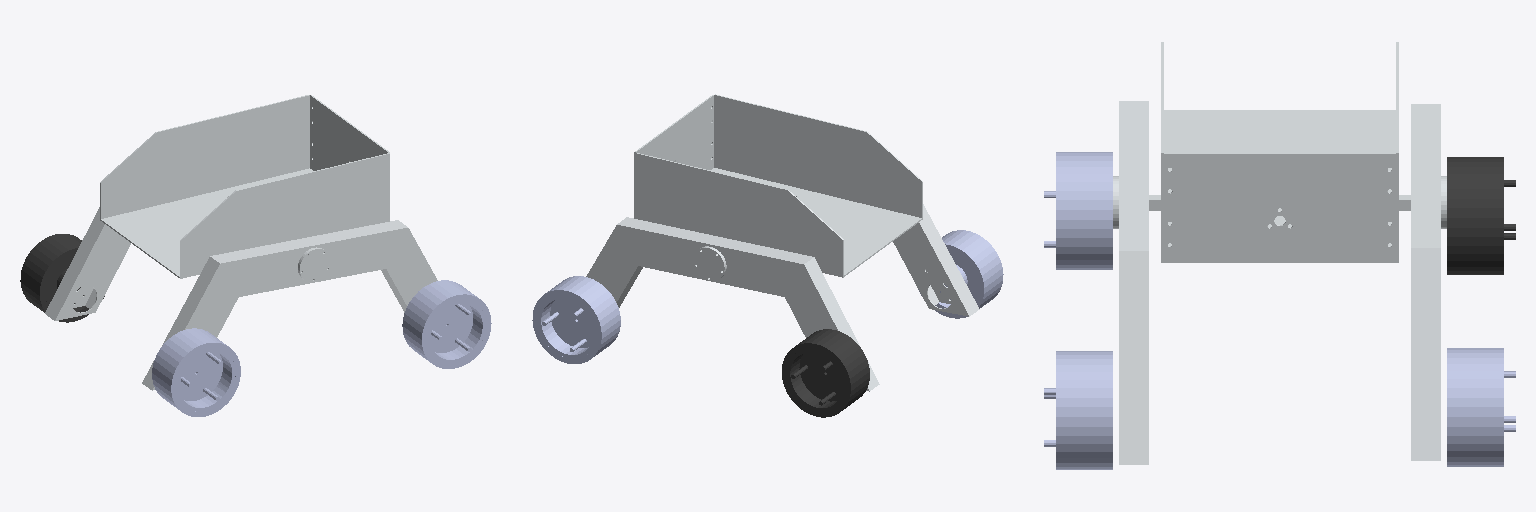
URDF robot description (modelo_sagan):
<robot
  name="modelo_sagan">
  <link
    name="base_link">
    <inertial>
      <origin
        xyz="-0.0444310059293012 -0.3 0.0622702114065027"
        rpy="0 0 0" />
      <mass
        value="0.793701198940021" />
      <inertia
        ixx="0.00346642745161757"
        ixy="6.34553575975384E-19"
        ixz="-0.000440436800758407"
        iyy="0.00244776176348504"
        iyz="6.42269877250963E-19"
        izz="0.00490897911186748" />
    </inertial>
    <visual>
      <origin
        xyz="0 0 0"
        rpy="0 0 0" />
      <geometry>
        <mesh
          filename="package://modelo_sagan/meshes/base_link.STL" />
      </geometry>
      <material
        name="">
        <color
          rgba="0.898039215686275 0.917647058823529 0.929411764705882 1" />
      </material>
    </visual>
    <collision>
      <origin
        xyz="0 0 0"
        rpy="0 0 0" />
      <geometry>
        <mesh
          filename="package://modelo_sagan/meshes/base_link.STL" />
      </geometry>
    </collision>
  </link>
  <link
    name="Susp_right">
    <inertial>
      <origin
        xyz="-0.0367180930274202 -0.0139956206617251 -0.0135528661805364"
        rpy="0 0 0" />
      <mass
        value="0.291792316463795" />
      <inertia
        ixx="0.00189491394131588"
        ixy="-0.00125671559561288"
        ixz="3.24148332283172E-06"
        iyy="0.00119368120662915"
        iyz="1.28213006448375E-06"
        izz="0.00308636670929111" />
    </inertial>
    <visual>
      <origin
        xyz="0 0 0"
        rpy="0 0 0" />
      <geometry>
        <mesh
          filename="package://modelo_sagan/meshes/Susp_right.STL" />
      </geometry>
      <material
        name="">
        <color
          rgba="0.898039215686275 0.917647058823529 0.929411764705882 1" />
      </material>
    </visual>
    <collision>
      <origin
        xyz="0 0 0"
        rpy="0 0 0" />
      <geometry>
        <mesh
          filename="package://modelo_sagan/meshes/Susp_right.STL" />
      </geometry>
    </collision>
  </link>
  <joint
    name="eixo_Susp_R"
    type="fixed">
    <origin
      xyz="-0.0492787962347225 -0.41 0.0314863650603519"
      rpy="-1.5707963267949 -0.997789985484159 9.48986181582886E-17" />
    <parent
      link="base_link" />
    <child
      link="Susp_right" />
    <axis
      xyz="0 0 -1" />
  </joint>
  <link
    name="R_Front_wheel">
    <inertial>
      <origin
        xyz="3.66373598126302E-15 -1.69309011255336E-15 0.00163770079233821"
        rpy="0 0 0" />
      <mass
        value="0.250087817580495" />
      <inertia
        ixx="4.59573165509559E-06"
        ixy="0"
        ixz="-2.25040567409979E-18"
        iyy="4.59573165509559E-06"
        iyz="1.02312258002524E-18"
        izz="5.83801355502451E-30" />
    </inertial>
    <visual>
      <origin
        xyz="0 0 0"
        rpy="0 0 0" />
      <geometry>
        <mesh
          filename="package://modelo_sagan/meshes/R_Front_wheel.STL" />
      </geometry>
      <material
        name="">
        <color
          rgba="0.796078431372549 0.823529411764706 0.937254901960784 1" />
      </material>
    </visual>
    <collision>
      <origin
        xyz="7 0 0"
        rpy="0 0 0" />
      <geometry>
        <mesh
          filename="package://modelo_sagan/meshes/R_Front_wheel.STL" />
      </geometry>
    </collision>
  </link>
  <joint
    name="eixoRFW"
    type="fixed">
    <origin
      xyz="0.00083235 0.20699 -0.050813"
      rpy="3.1416 0 -0.55205" />
    <parent
      link="Susp_right" />
    <child
      link="R_Front_wheel" />
    <axis
      xyz="0 0 0" />
  </joint>
  <link
    name="R_Back_wheel">
    <inertial>
      <origin
        xyz="3.62210261783957E-15 1.66533453693773E-16 -0.00413770079233833"
        rpy="0 0 0" />
      <mass
        value="0.250087817580495" />
      <inertia
        ixx="4.59573165509569E-06"
        ixy="0"
        ixz="1.10995971625901E-18"
        iyy="4.59573165509569E-06"
        iyz="-4.11227445186882E-21"
        izz="1.87606031515425E-28" />
    </inertial>
    <visual>
      <origin
        xyz="0 0 0"
        rpy="0 0 0" />
      <geometry>
        <mesh
          filename="package://modelo_sagan/meshes/R_Back_wheel.STL" />
      </geometry>
      <material
        name="">
        <color
          rgba="0.792156862745098 0.819607843137255 0.933333333333333 1" />
      </material>
    </visual>
    <collision>
      <origin
        xyz="0 0 0"
        rpy="0 0 0" />
      <geometry>
        <mesh
          filename="package://modelo_sagan/meshes/R_Back_wheel.STL" />
      </geometry>
    </collision>
  </link>
  <joint
    name="eixoRBW"
    type="fixed">
    <origin
      xyz="-0.178838257906476 -0.104213429510882 -0.0483125"
      rpy="0 0 2.14187631042243" />
    <parent
      link="Susp_right" />
    <child
      link="R_Back_wheel" />
    <axis
      xyz="0 0 0" />
  </joint>
  <link
    name="Susp_left">
    <inertial>
      <origin
        xyz="-0.0367180930274213 -0.0139956206617264 0.0168471338194642"
        rpy="0 0 0" />
      <mass
        value="0.291792316463796" />
      <inertia
        ixx="0.0018949139413159"
        ixy="-0.00125671559561291"
        ixz="3.24148332283041E-06"
        iyy="0.00119368120662919"
        iyz="1.28213006448251E-06"
        izz="0.00308636670929116" />
    </inertial>
    <visual>
      <origin
        xyz="0 0 0"
        rpy="0 0 0" />
      <geometry>
        <mesh
          filename="package://modelo_sagan/meshes/Susp_left.STL" />
      </geometry>
      <material
        name="">
        <color
          rgba="0.898039215686275 0.917647058823529 0.929411764705882 1" />
      </material>
    </visual>
    <collision>
      <origin
        xyz="0 0 0"
        rpy="0 0 0" />
      <geometry>
        <mesh
          filename="package://modelo_sagan/meshes/Susp_left.STL" />
      </geometry>
    </collision>
  </link>
  <joint
    name="eixo_Susp_L"
    type="fixed">
    <origin
      xyz="-0.0492787962347225 -0.1596 0.0314863650603519"
      rpy="-1.5707963267949 -1.0764644338619 3.14159265358979" />
    <parent
      link="base_link" />
    <child
      link="Susp_left" />
    <axis
      xyz="0 0 1" />
  </joint>
  <link
    name="L_Front_wheel">
    <inertial>
      <origin
        xyz="1.72084568816899E-15 -4.30211422042248E-16 0.0016377007923383"
        rpy="0 0 0" />
      <mass
        value="0.250087817580495" />
      <inertia
        ixx="4.59573165509563E-06"
        ixy="2.64697796016969E-23"
        ixz="-1.10257299057821E-18"
        iyy="4.59573165509563E-06"
        iyz="2.07636838168532E-19"
        izz="1.12495490728928E-30" />
    </inertial>
    <visual>
      <origin
        xyz="0 0 0"
        rpy="0 0 0" />
      <geometry>
        <mesh
          filename="package://modelo_sagan/meshes/L_Front_wheel.STL" />
      </geometry>
      <material
        name="">
        <color
          rgba="0.796078431372549 0.823529411764706 0.937254901960784 1" />
      </material>
    </visual>
    <collision>
      <origin
        xyz="0 0 0"
        rpy="0 0 0" />
      <geometry>
        <mesh
          filename="package://modelo_sagan/meshes/L_Front_wheel.STL" />
      </geometry>
    </collision>
  </link>
  <joint
    name="eixoLFW"
    type="fixed">
    <origin
      xyz="-0.178838257906464 -0.104213429510898 -0.0204124999999994"
      rpy="3.14159265358979 0 -0.420787783674323" />
    <parent
      link="Susp_left" />
    <child
      link="L_Front_wheel" />
    <axis
      xyz="0 0 0" />
  </joint>
  <link
    name="L_Back_wheel">
    <inertial>
      <origin
        xyz="-6.10622663543836E-16 5.55111512312578E-16 0.0220502007923377"
        rpy="0 0 0" />
      <mass
        value="0.250087817580495" />
      <inertia
        ixx="4.59573165509559E-06"
        ixy="0"
        ixz="7.62666975930451E-19"
        iyy="4.59573165509559E-06"
        iyz="-5.81056453654185E-19"
        izz="6.37489559775246E-31" />
    </inertial>
    <visual>
      <origin
        xyz="0 0 0"
        rpy="0 0 0" />
      <geometry>
        <mesh
          filename="package://modelo_sagan/meshes/L_Back_wheel.STL" />
      </geometry>
      <material
        name="">
        <color
          rgba="0.298039215686275 0.298039215686275 0.298039215686275 1" />
      </material>
    </visual>
    <collision>
      <origin
        xyz="0 0 0"
        rpy="0 0 0" />
      <geometry>
        <mesh
          filename="package://modelo_sagan/meshes/L_Back_wheel.STL" />
      </geometry>
    </collision>
  </link>
  <joint
    name="eixoLBW"
    type="fixed">
    <origin
      xyz="0.000832348418708467 0.206985189270995 0"
      rpy="3.14159265358979 0 -0.835419970873937" />
    <parent
      link="Susp_left" />
    <child
      link="L_Back_wheel" />
    <axis
      xyz="0 0 -1" />
  </joint>
</robot>

--- What the picture shows (computed from the rendered views, not written in the file) ---
3 views of the same robot in one strip: view 1: azimuth 30°, elevation 25°; view 2: azimuth 150°, elevation 25°; view 3: azimuth 270°, elevation 25° (orthographic).
Robot: modelo_sagan — 7 links, 6 joints (6 fixed); root link base_link; default pose: all joints at 0.
Links seen in each view (by area): view 1: base_link, Susp_right, R_Back_wheel, R_Front_wheel, Susp_left, L_Back_wheel; view 2: base_link, Susp_left, L_Back_wheel, L_Front_wheel, Susp_right, R_Back_wheel; view 3: base_link, Susp_right, Susp_left, L_Front_wheel, R_Front_wheel, L_Back_wheel, R_Back_wheel.
Link boxes in pixels (bbox=[...]): base_link: bbox=[100, 95, 389, 278]; Susp_right: bbox=[142, 220, 437, 390]; R_Back_wheel: bbox=[152, 328, 240, 416]; R_Front_wheel: bbox=[402, 280, 491, 368]; Susp_left: bbox=[45, 207, 130, 320]; L_Back_wheel: bbox=[20, 234, 104, 322]; base_link: bbox=[634, 94, 922, 277]; Susp_left: bbox=[586, 217, 879, 391]; L_Back_wheel: bbox=[782, 329, 869, 417]; L_Front_wheel: bbox=[532, 276, 620, 363]; Susp_right: bbox=[893, 204, 979, 316]; R_Back_wheel: bbox=[918, 230, 1003, 318]; base_link: bbox=[1149, 42, 1410, 262]; Susp_right: bbox=[1113, 101, 1148, 464]; Susp_left: bbox=[1411, 104, 1446, 460]; L_Front_wheel: bbox=[1447, 348, 1515, 466]; R_Front_wheel: bbox=[1044, 351, 1112, 469]; L_Back_wheel: bbox=[1447, 157, 1515, 274]; R_Back_wheel: bbox=[1044, 152, 1112, 269].
Bounding box of the posed robot: 0.461 × 0.3966 × 0.2684 m (x, y, z).
Meshes: 7 distinct files referenced, 7 mesh visuals loaded (7 binary STL).
